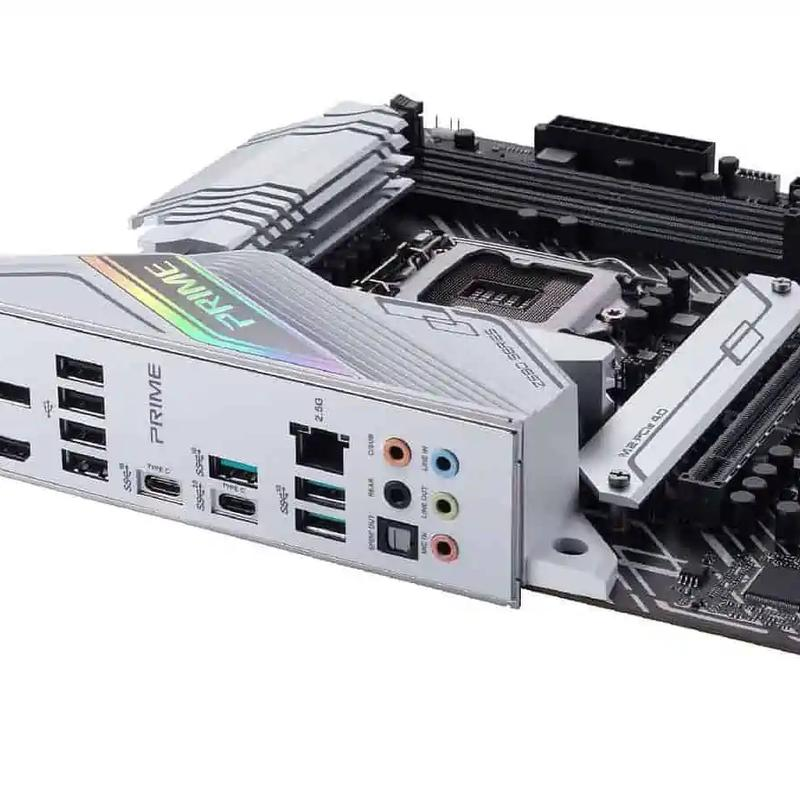AUDIO: (422, 441, 470, 488)
AUDIO_INPUT: (422, 489, 464, 520)
AUDIO_OUTPUT: (422, 530, 462, 564)
ETHERNET: (282, 416, 353, 478)
HDMI: (0, 429, 33, 463)
USB: (196, 445, 265, 488), (50, 446, 112, 486), (295, 507, 350, 542), (52, 383, 110, 415), (55, 347, 105, 384), (0, 367, 39, 412), (54, 417, 111, 447), (290, 480, 349, 506)
USBC: (198, 485, 261, 528), (128, 462, 181, 502)
